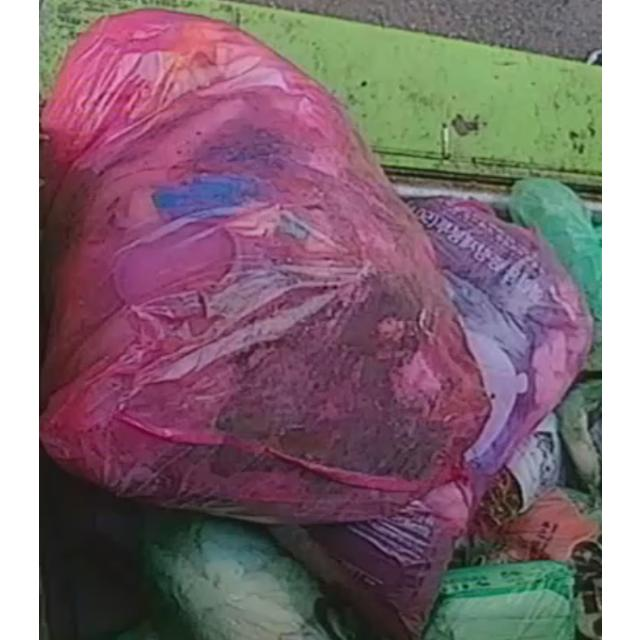general_trashbag: (142, 516, 376, 640), (423, 561, 574, 640)
other_trashbag: (40, 11, 488, 522), (272, 200, 590, 639)
